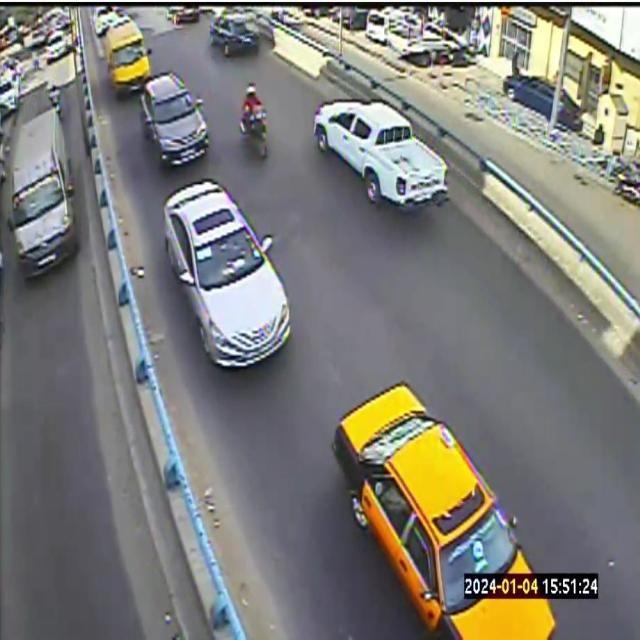car: (332, 382, 555, 639), (164, 179, 289, 366), (314, 100, 447, 208), (140, 72, 209, 166), (103, 22, 151, 96), (210, 15, 259, 56)
